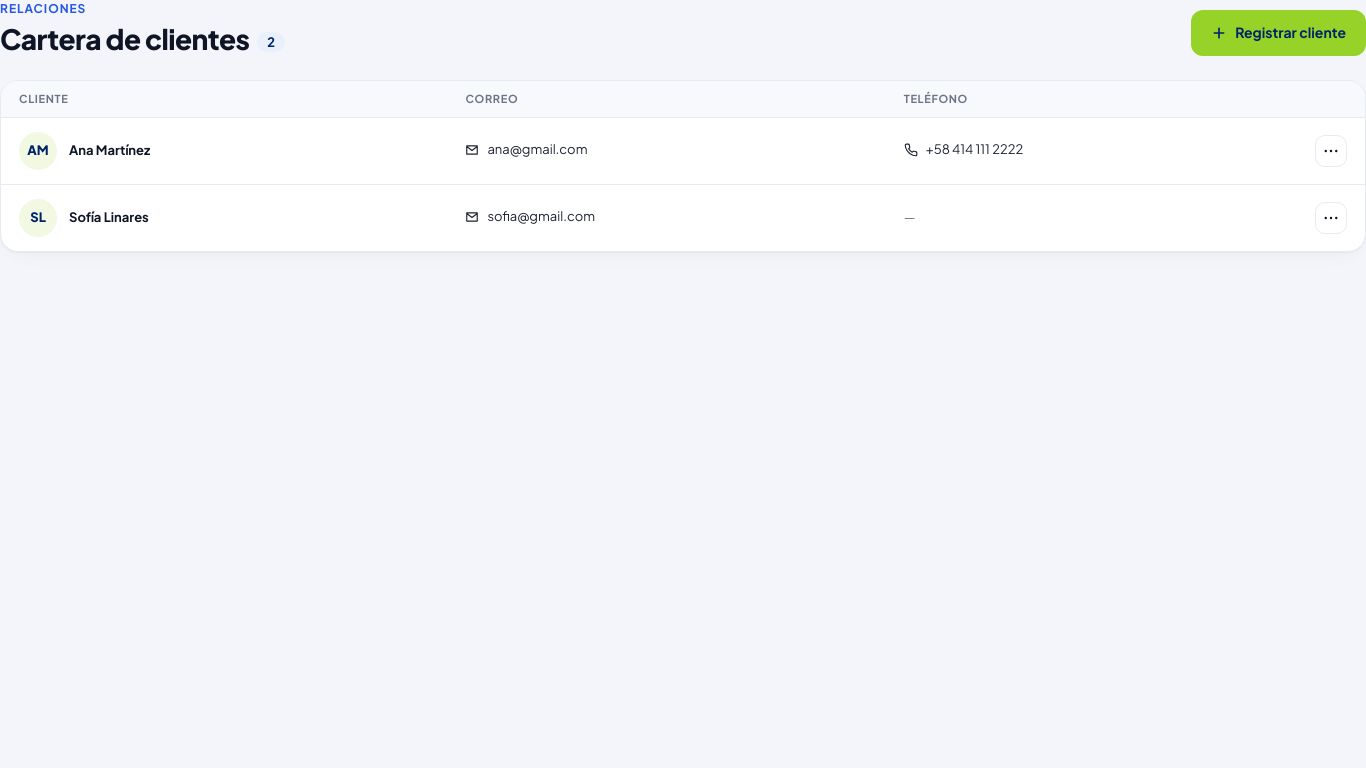
Test: registrar cliente valida el correo, guarda y avisa que quedó en la cartera
Click the button "Registrar cliente" at [1279, 33], box [1191,10,1365,56]
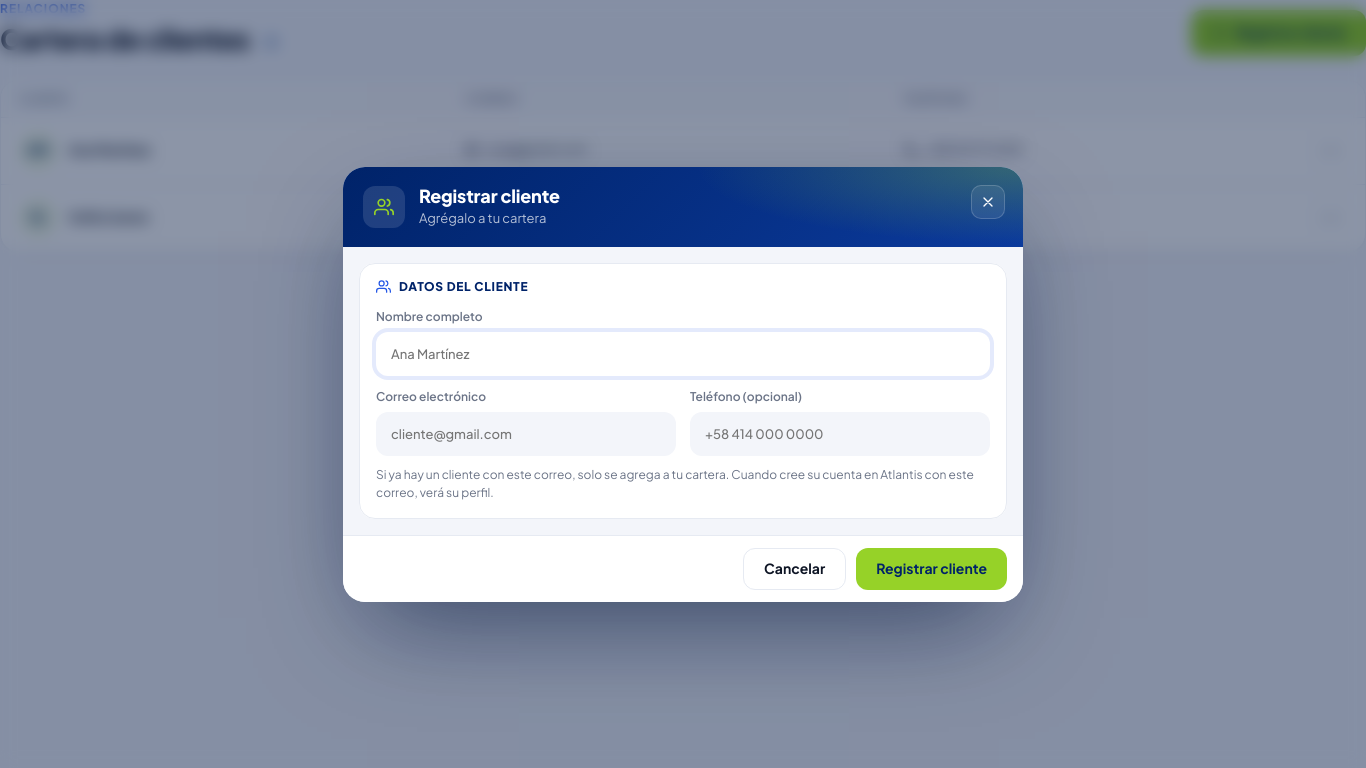
Type "Luis Rojas" into the field labelled "Nombre completo" at [683, 354], box [376,332,990,376]
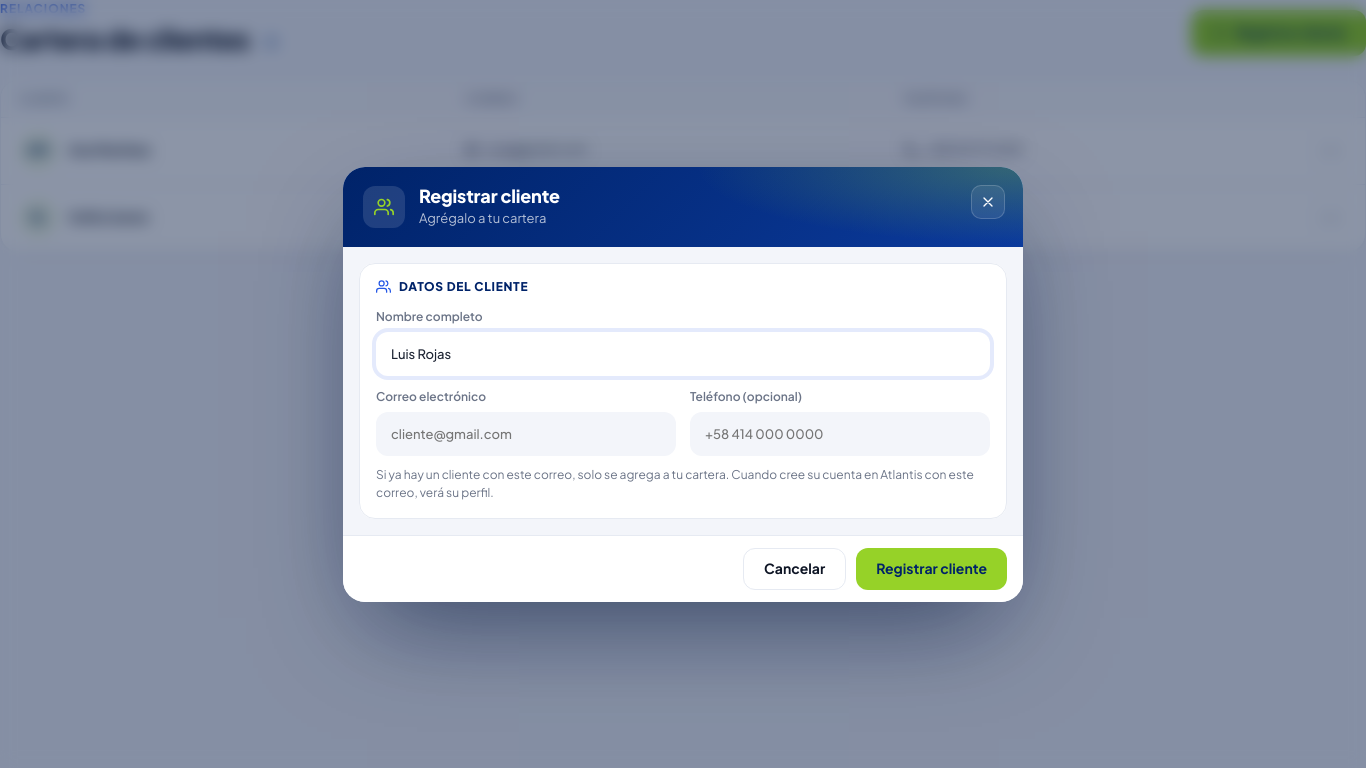
Type "luis@" into the field labelled "Correo electrónico" at [526, 434], box [376,412,676,456]
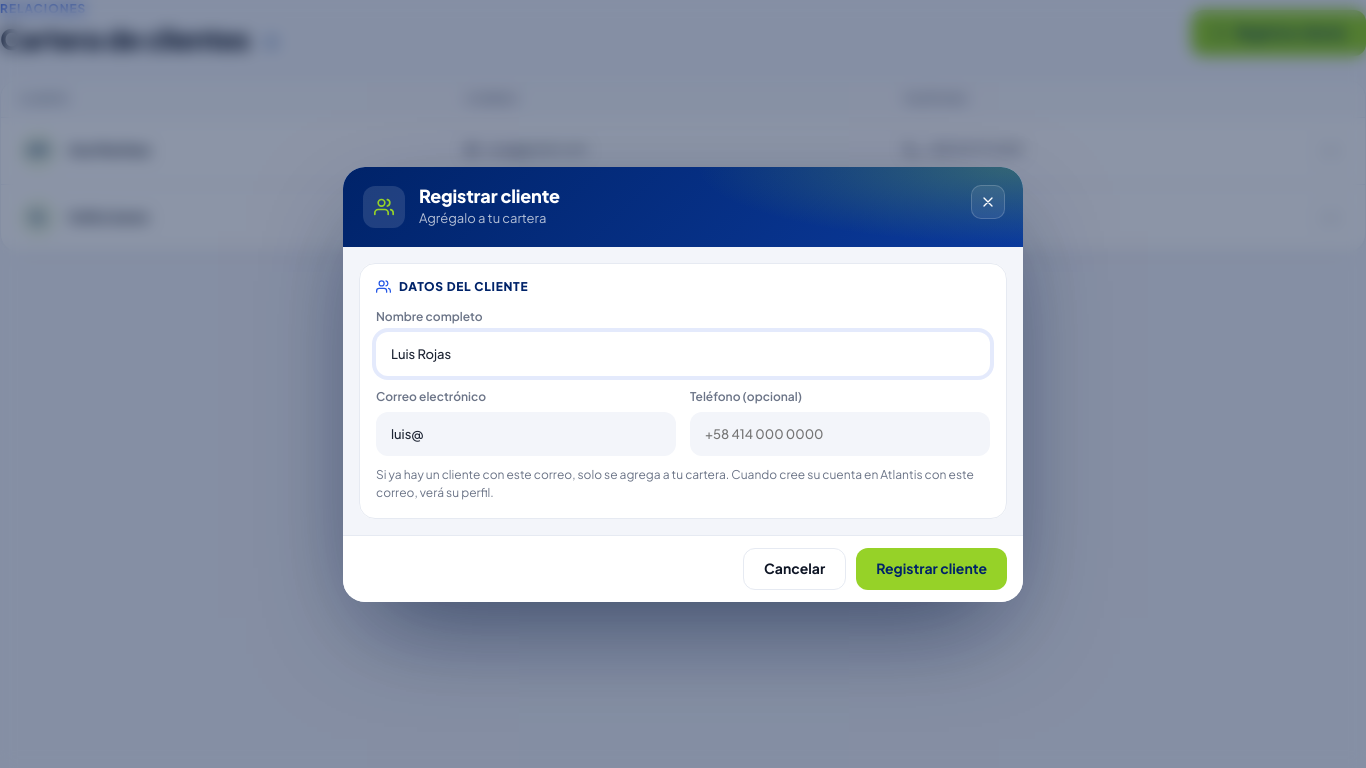
Click the button "Registrar cliente" at [932, 568], box [856,548,1007,590]
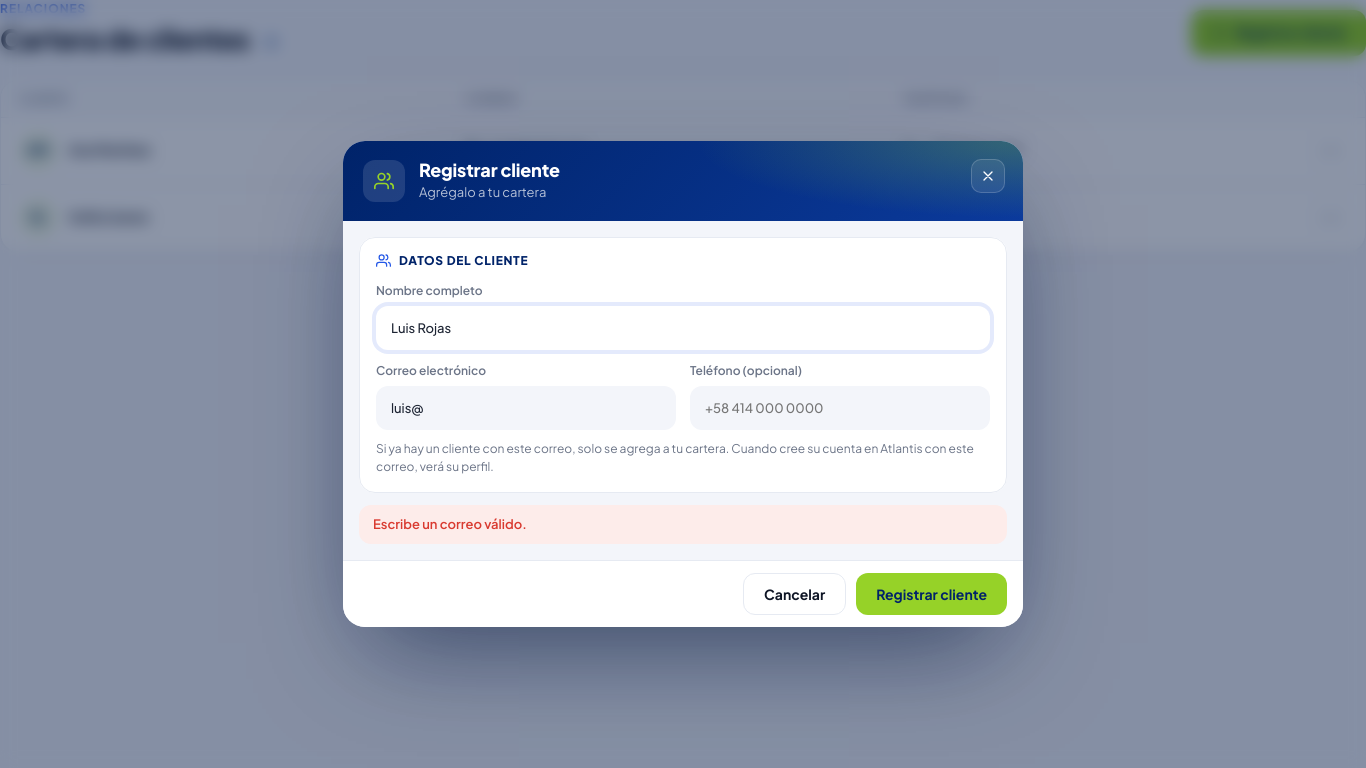
Expected: the message shows "correo válido", [373,516,527,532]
Replace the text in the field labelled "Correo electrónico" with "luis@gmail.com" at [526, 408], box [376,386,676,430]
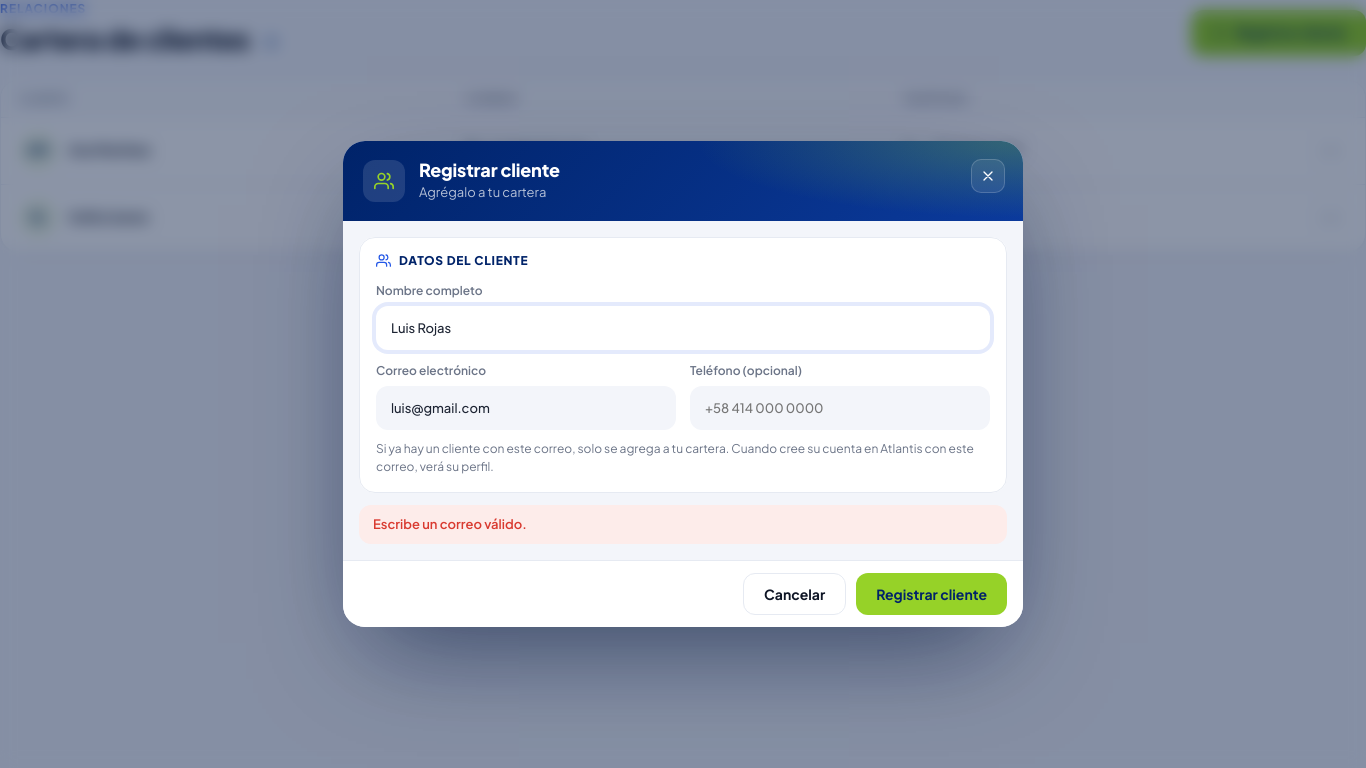
Click the button "Registrar cliente" at [932, 594], box [856,573,1007,615]
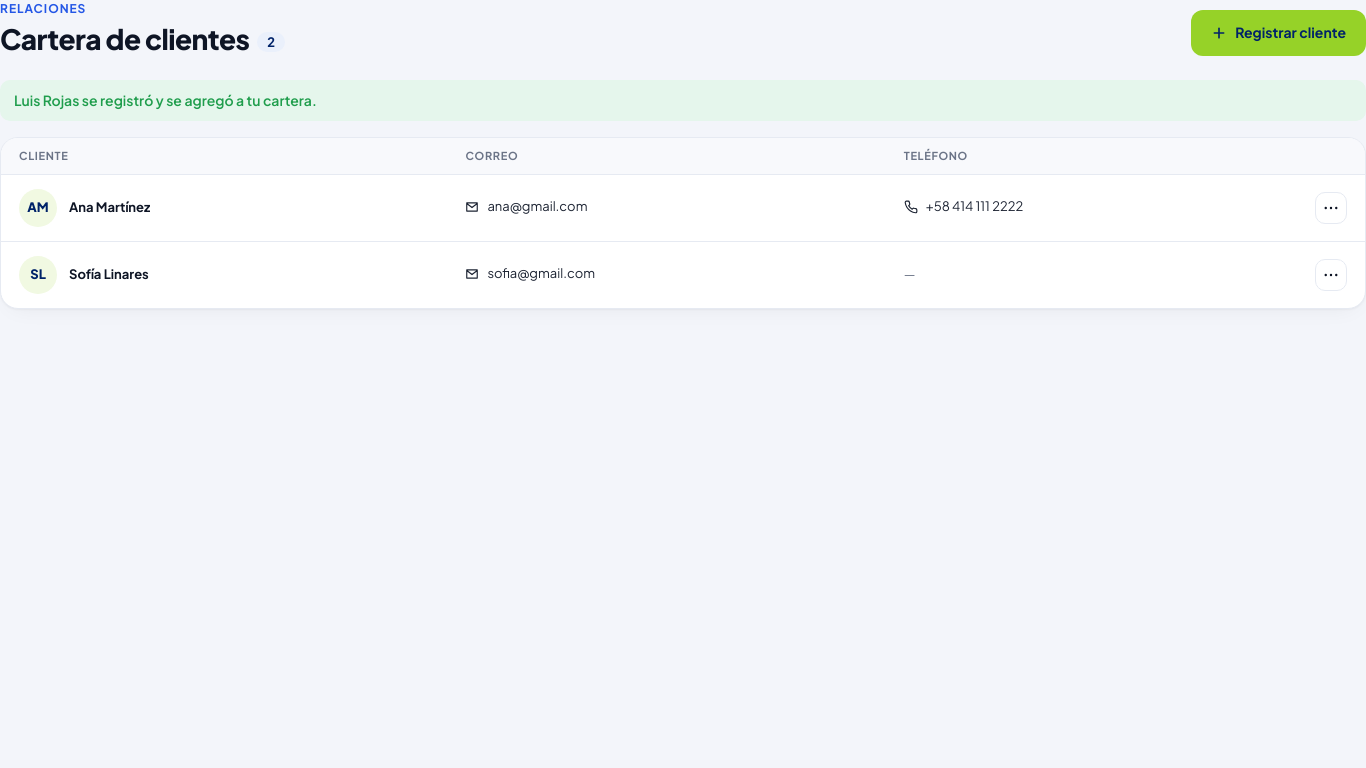
Expected: the message shows "Luis Rojas se registró y se agregó a tu cartera", [14,91,317,109]
